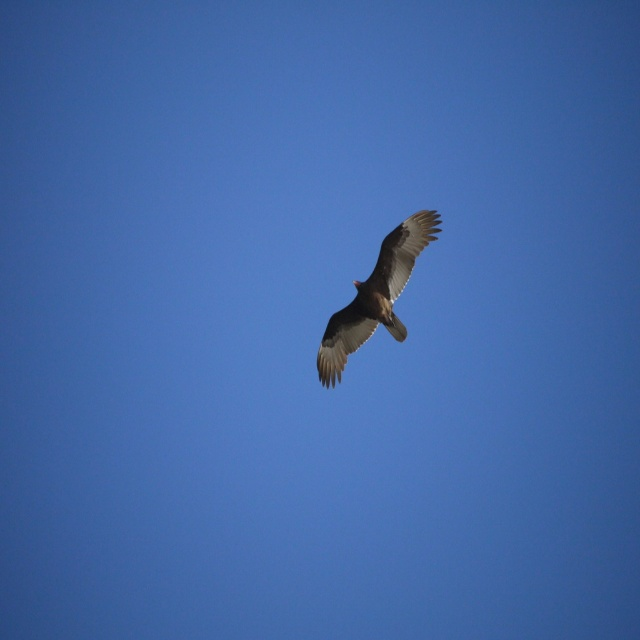Eagle: (316, 205, 442, 386)
